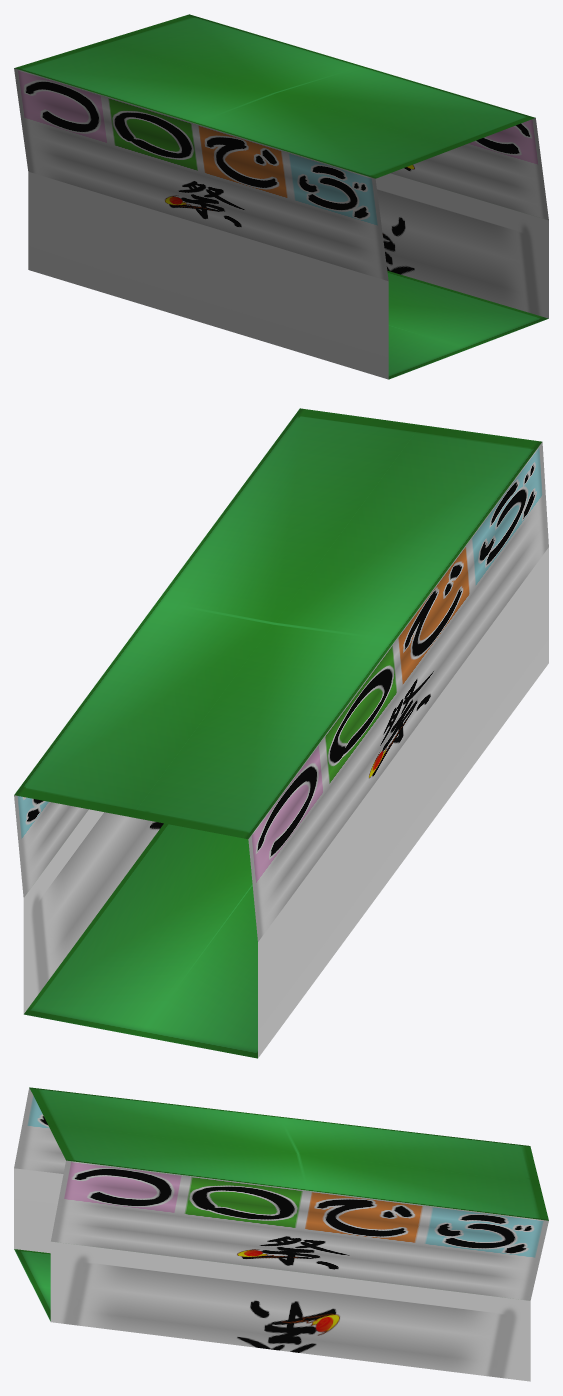
Rendered from CourseSummer_Concave_4_5.fbx.
3 views of the same model, one above another, from view 1: azimuth 30°, elevation 25°; view 2: azimuth 150°, elevation 25°; view 3: azimuth 270°, elevation 25° (orthographic). The views are drawn at different scales.
Parts seen in each view (by area): view 1: polySurface285; view 2: polySurface285; view 3: polySurface285.
Boxes of the visible parts, <box> form: polySurface285: <box>14,14,548,379</box>; polySurface285: <box>14,408,548,1058</box>; polySurface285: <box>14,1087,548,1381</box>.
Bounding box in the file's own units: 2.59 × 2.98 × 6.01.
Materials: 1 (1 with a texture image).
